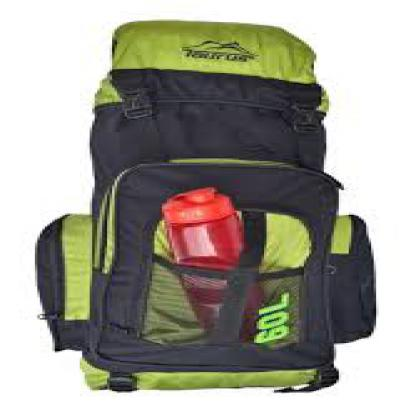morral: (10, 12, 399, 405)
